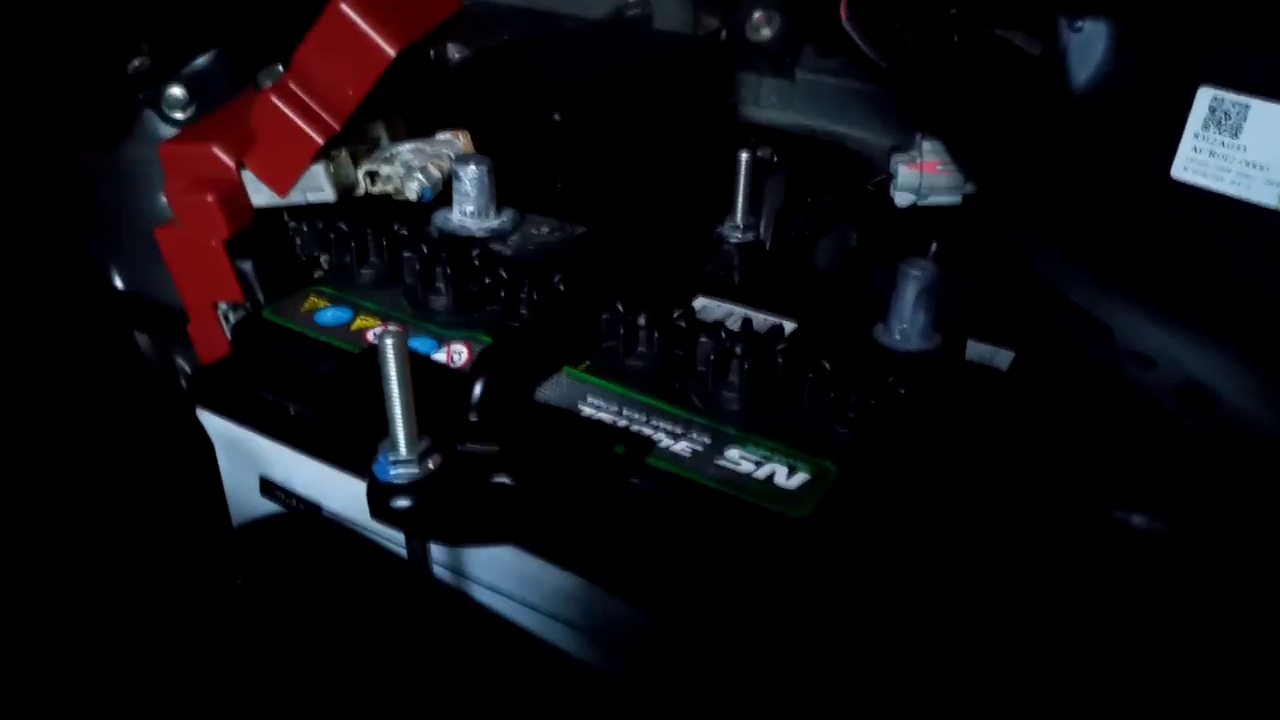battery: (180, 86, 1040, 562)
neg_disconnected: (831, 238, 998, 380)
pos_disconnected: (99, 110, 539, 346)
